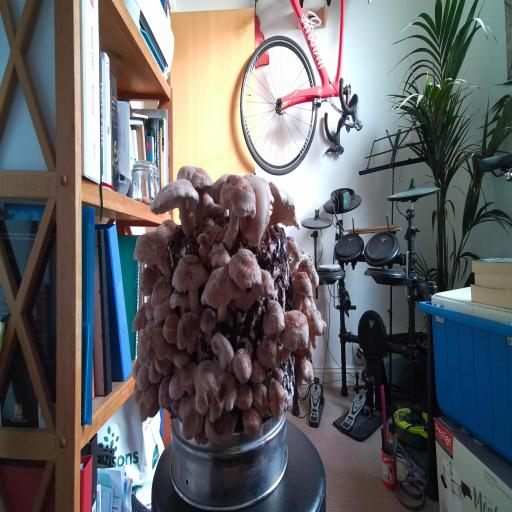Shiitake Mushroom: (193, 159, 276, 252), (133, 160, 219, 239), (158, 242, 226, 320), (190, 254, 254, 335), (183, 352, 244, 435), (130, 312, 185, 384), (167, 155, 218, 231), (234, 169, 277, 252), (130, 210, 179, 277), (228, 264, 284, 314), (270, 302, 315, 364), (253, 294, 295, 348), (173, 387, 208, 443), (146, 270, 176, 328), (204, 328, 240, 376), (227, 244, 263, 292), (191, 189, 231, 230), (173, 307, 205, 357), (290, 252, 329, 292), (285, 266, 317, 314), (269, 181, 300, 228), (300, 298, 331, 344), (203, 160, 233, 206), (166, 361, 199, 402), (132, 261, 161, 304), (135, 381, 164, 423), (229, 343, 256, 388), (194, 303, 221, 345), (264, 377, 289, 422), (205, 410, 236, 445), (288, 337, 321, 368), (239, 401, 265, 440), (255, 334, 280, 373), (141, 360, 169, 391), (131, 359, 154, 395), (166, 345, 196, 372), (233, 380, 256, 415), (189, 423, 215, 453), (160, 309, 181, 346), (294, 354, 314, 387), (248, 358, 269, 389), (158, 210, 181, 238), (129, 302, 149, 332), (208, 246, 234, 269), (169, 288, 190, 315), (284, 248, 305, 275), (252, 383, 269, 415), (157, 376, 172, 410), (197, 231, 212, 264), (295, 293, 316, 313), (129, 358, 142, 380), (129, 385, 143, 405), (144, 296, 155, 321), (287, 237, 299, 256), (310, 336, 318, 348)
